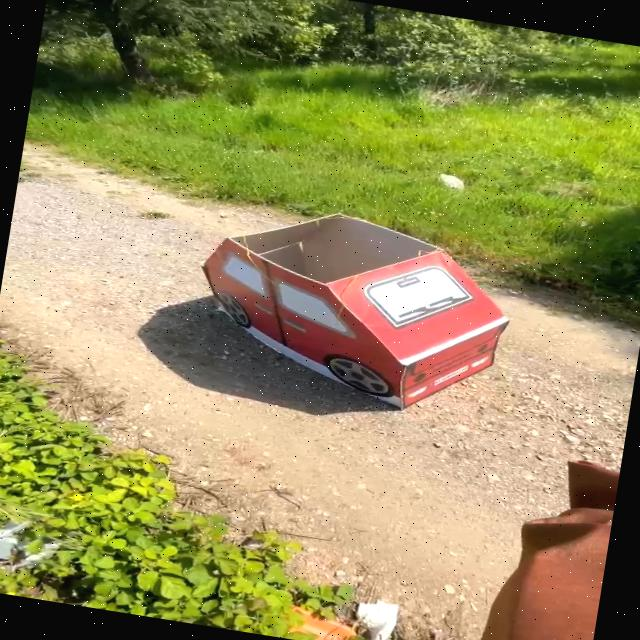red_car: (163, 180, 552, 438)
